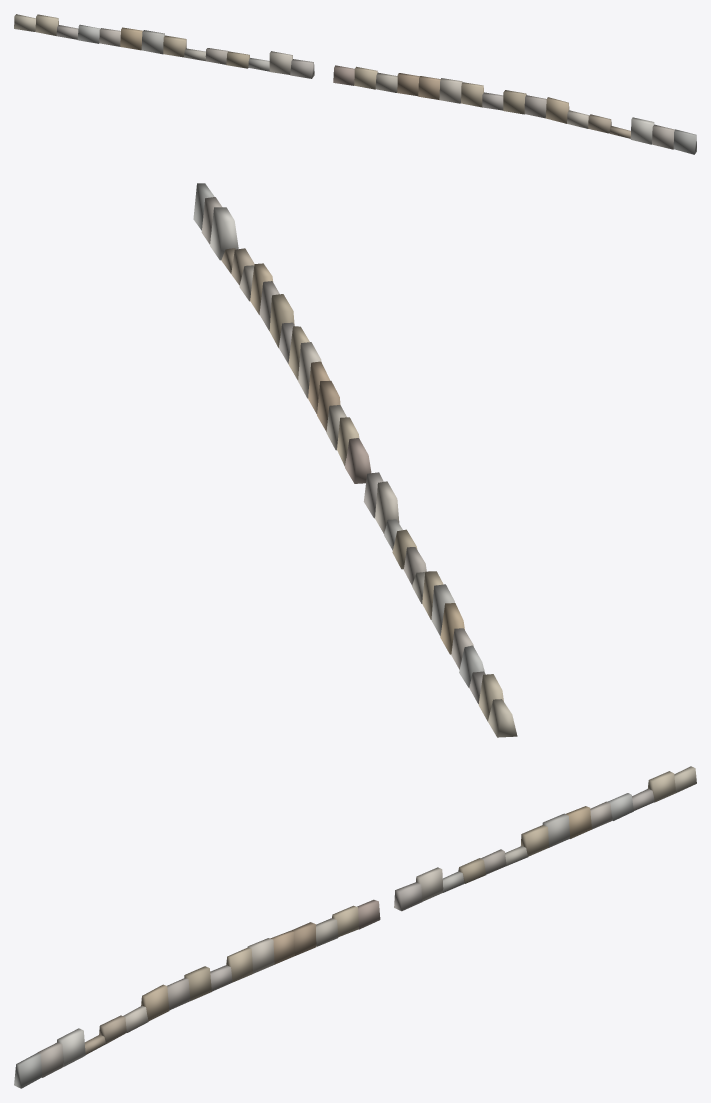
Rendered from farm_4_2_far.glb.
3 views of the same model, one above another, from view 1: azimuth 30°, elevation 25°; view 2: azimuth 150°, elevation 25°; view 3: azimuth 270°, elevation 25° (orthographic). The views are drawn at different scales.
Visible parts, largest first — view 1: geometry_0; view 2: geometry_0; view 3: geometry_0.
Part boxes in pixels (x1,y1,x2,y2): geometry_0: (14, 14, 696, 154); geometry_0: (193, 183, 517, 737); geometry_0: (14, 766, 696, 1088).
Size of the model in its own units: 34.95 by 3.9 by 38.22.
